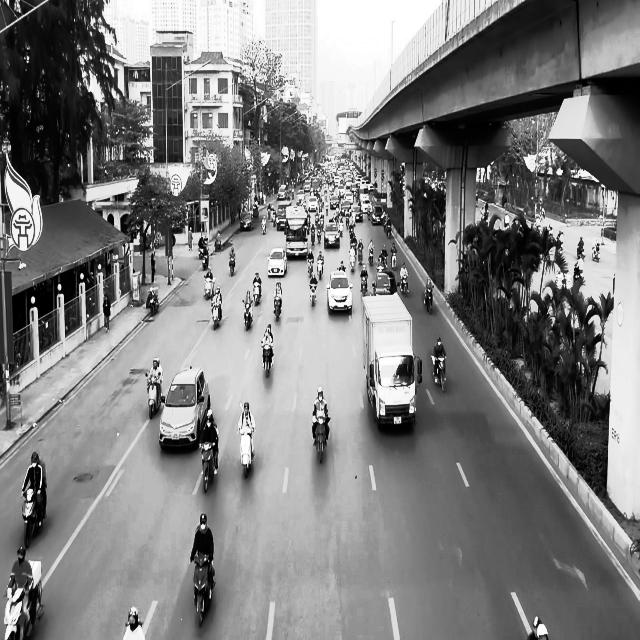car: (158, 366, 210, 449), (326, 270, 353, 314), (372, 271, 397, 295), (267, 248, 287, 276), (240, 212, 253, 230)
motorbike: (191, 553, 215, 627), (21, 486, 46, 548), (200, 440, 218, 492), (312, 413, 330, 463), (239, 425, 255, 478), (145, 373, 162, 419), (431, 354, 446, 392), (261, 342, 273, 378), (210, 298, 222, 330), (242, 299, 253, 330), (147, 289, 159, 315), (203, 275, 215, 299), (573, 258, 584, 282), (424, 286, 433, 314), (309, 278, 317, 306), (273, 296, 282, 320), (400, 274, 409, 296), (253, 283, 261, 305), (592, 243, 600, 261), (229, 257, 235, 276)
truck: (361, 292, 422, 429)
